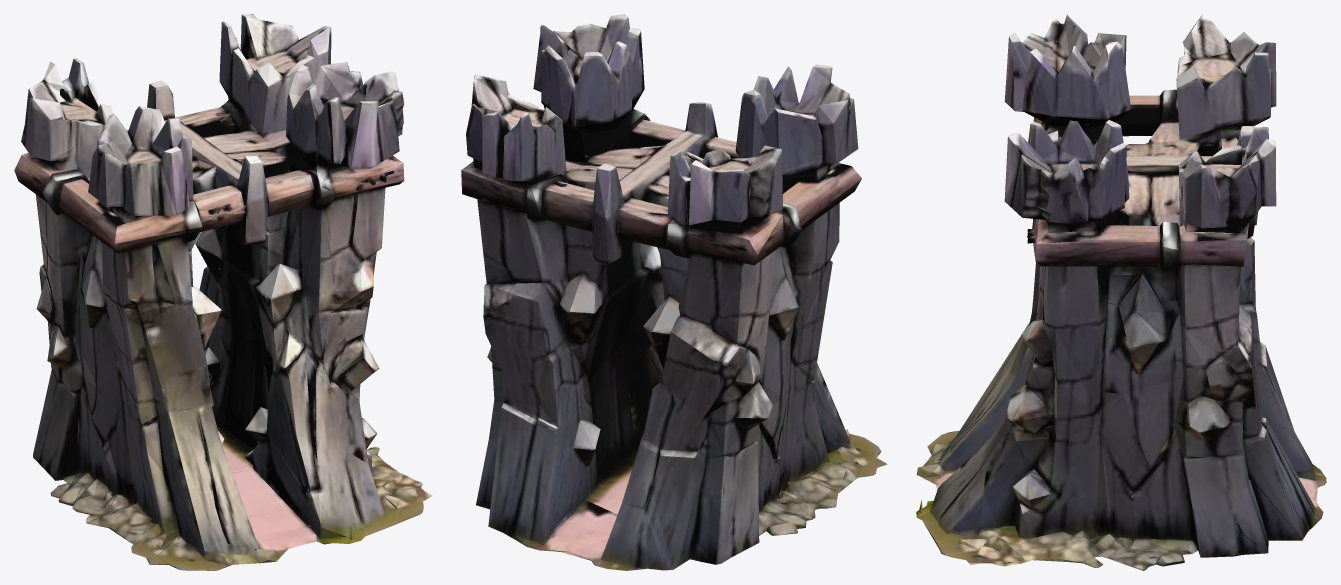
File: orc_fortress_wall_01.glb
3 views of the same model, side by side, from view 1: azimuth 30°, elevation 25°; view 2: azimuth 150°, elevation 25°; view 3: azimuth 270°, elevation 25° (orthographic). The views are drawn at different scales.
Visible parts, largest first — view 1: geometry_0; view 2: geometry_0; view 3: geometry_0.
Part boxes in pixels (x1,y1,x2,y2): geometry_0: (14,14,432,570); geometry_0: (461,14,887,570); geometry_0: (916,14,1326,570).
Size of the model in its own units: 0.7983 by 0.9993 by 0.8959.
1 material, 1 textured.
